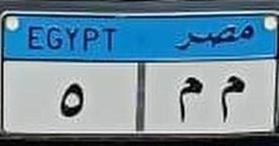5: (53, 77, 90, 124)
meem: (170, 72, 206, 125), (215, 71, 246, 126)
